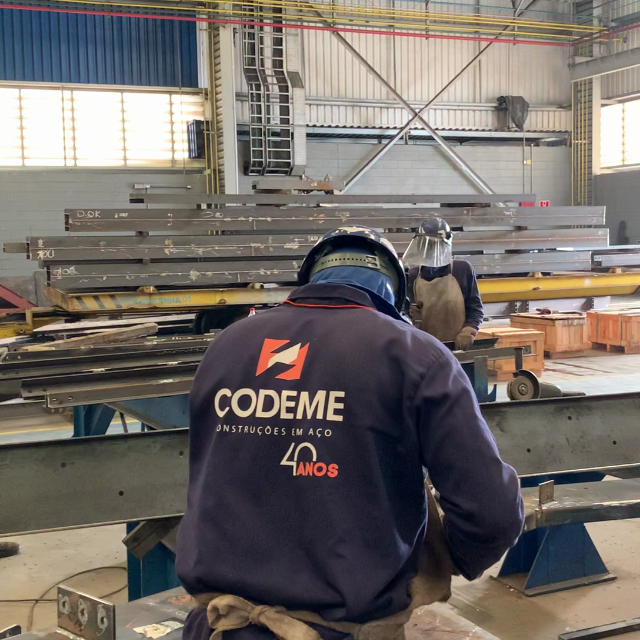face-shield: (399, 234, 451, 271)
helmet: (295, 225, 409, 315), (417, 217, 448, 231)
person: (171, 226, 527, 630)
